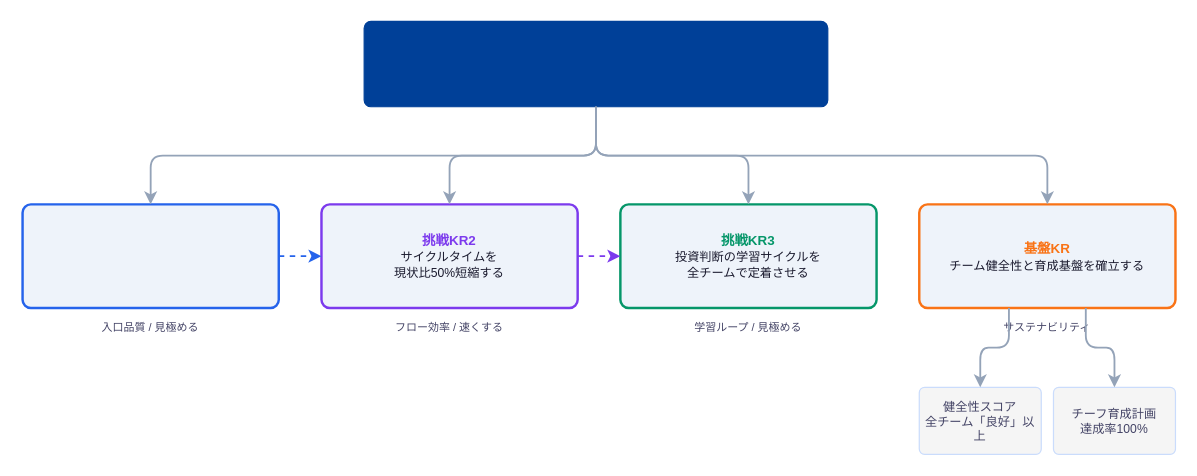
The diagram is 1197 pixels wide and 476 high, and some of its shapes have lost their labels. Each missing label, with the centre of its shape:
"Objective 投資が最短・最確実に顧客価値へ変換される デリバリーラインを確立する" goes at point (595, 63).
"挑戦KR1 入口品質を確立し 仕様起因の手戻りコストを 限りなくゼロに近づける" goes at point (150, 256).
